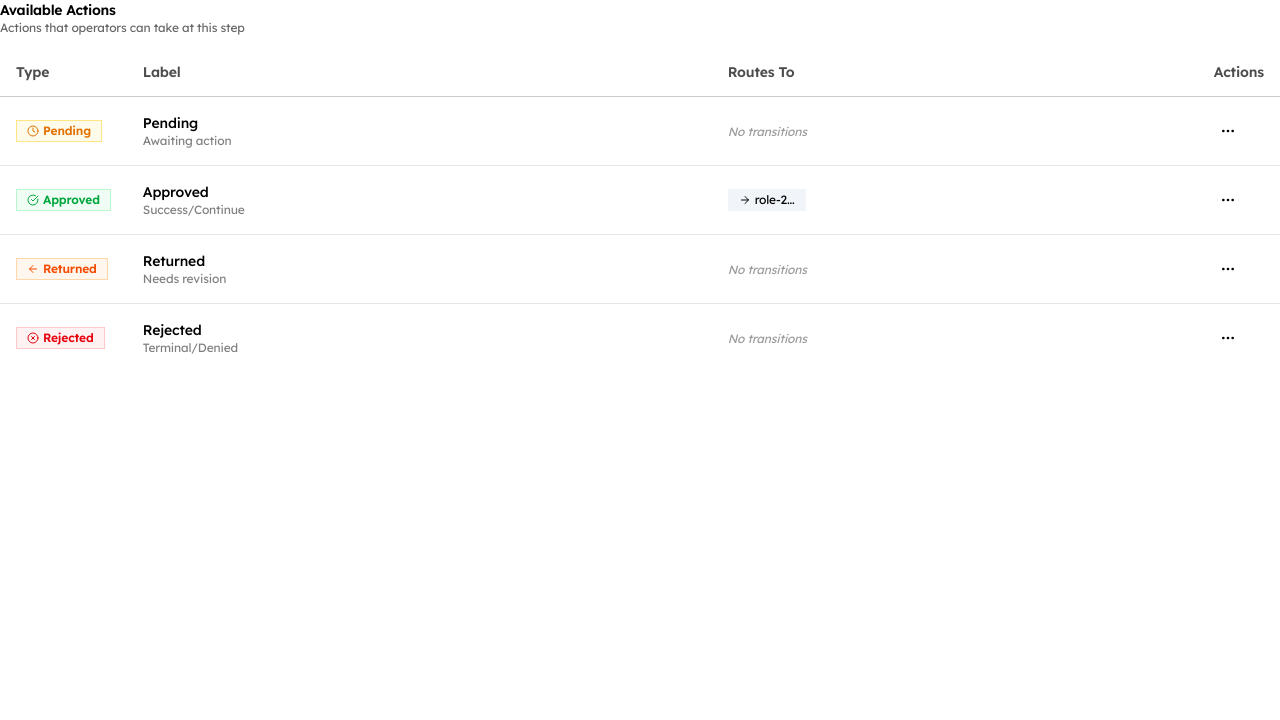
Scenario: StepActionsPanel › Actions › opens edit dialog when Edit Label is clicked
Click the button named "Actions for". click: (1228,130)
box: [1214,116,1242,144]
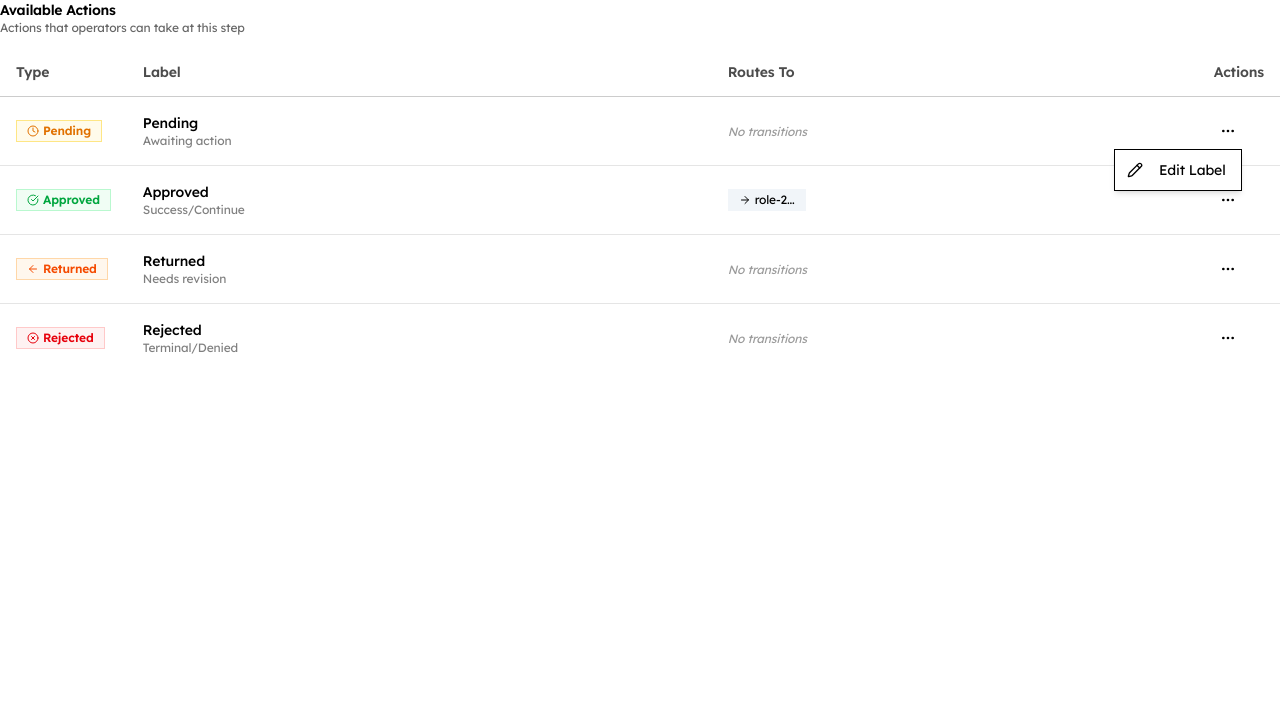
Click the menu item "Edit Label". click: (1176,170)
box: [1127,161,1226,179]
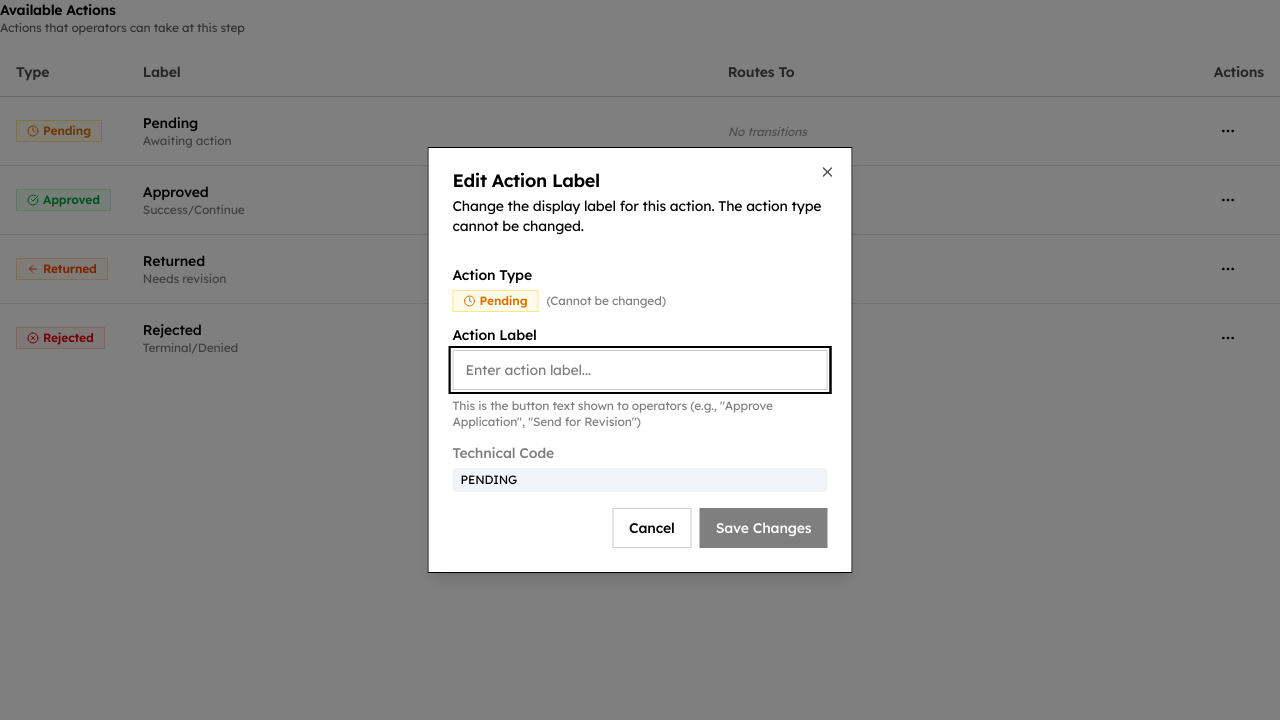
Result: the heading "Edit Action Label" is shown at [452,169,600,192]
